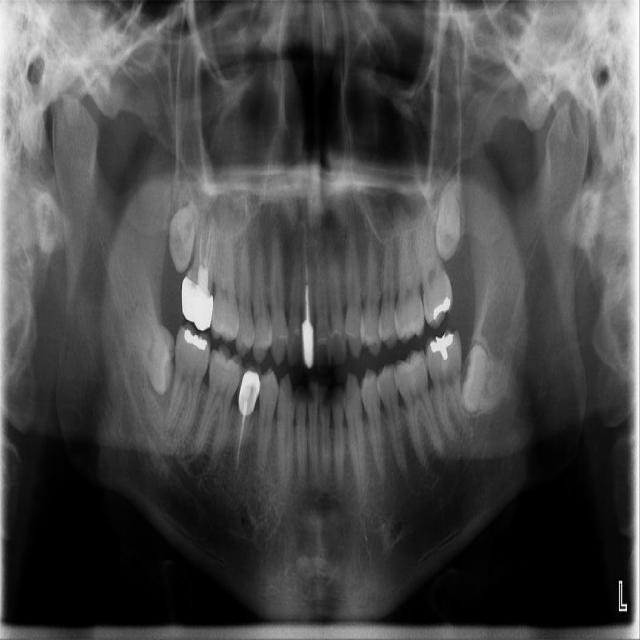Crown: (181, 275, 214, 331), (238, 362, 261, 417), (300, 320, 316, 371)
Filling: (431, 333, 455, 359), (184, 328, 208, 350), (433, 297, 450, 319)
Periapical lesion: (206, 204, 220, 226)
Root Canal Treatment: (237, 416, 246, 464), (209, 227, 217, 261), (207, 215, 211, 255), (306, 241, 310, 280), (200, 226, 203, 260)
impacted tooth: (126, 297, 172, 402), (463, 340, 520, 416), (432, 167, 466, 259), (166, 186, 201, 274)
